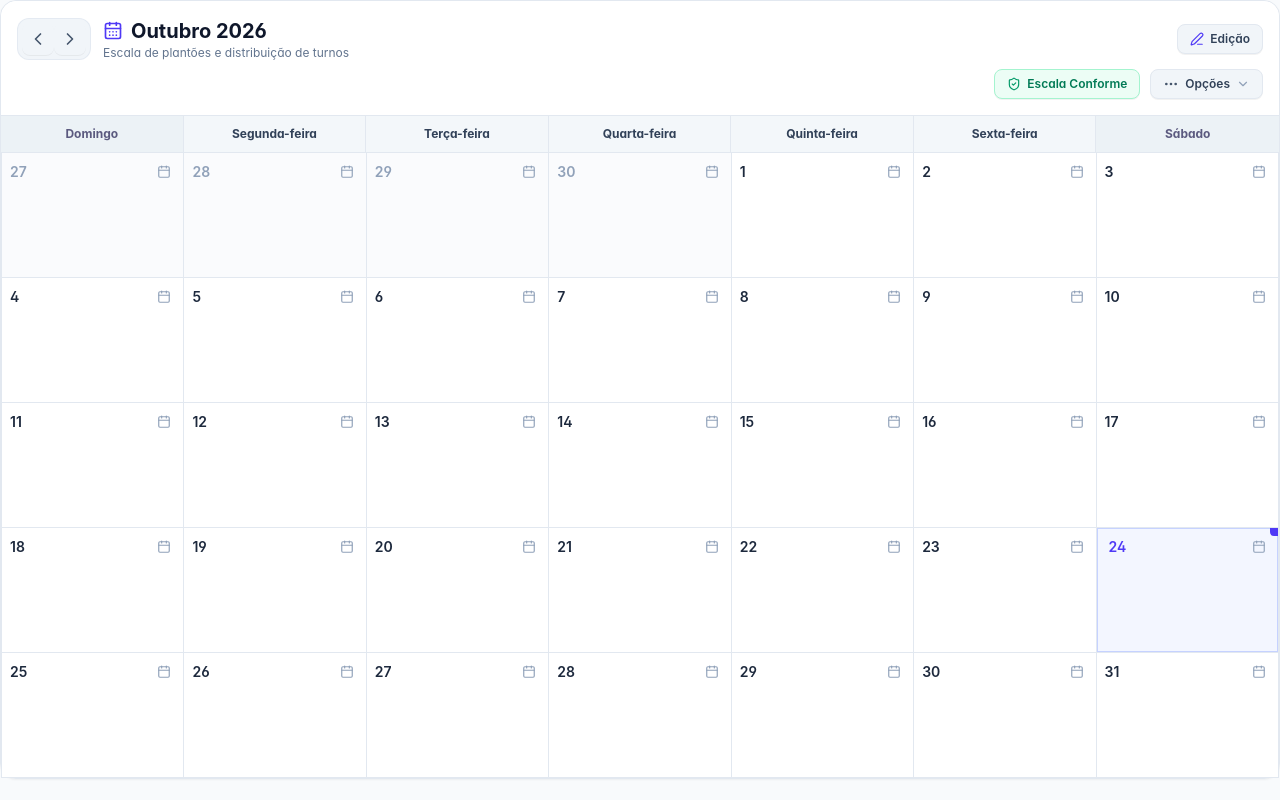
it: CalendarGrid › toggles between view and edit mode with a single button
Click the button "Edição" at x=1220, y=39, box [1177,24,1263,54]
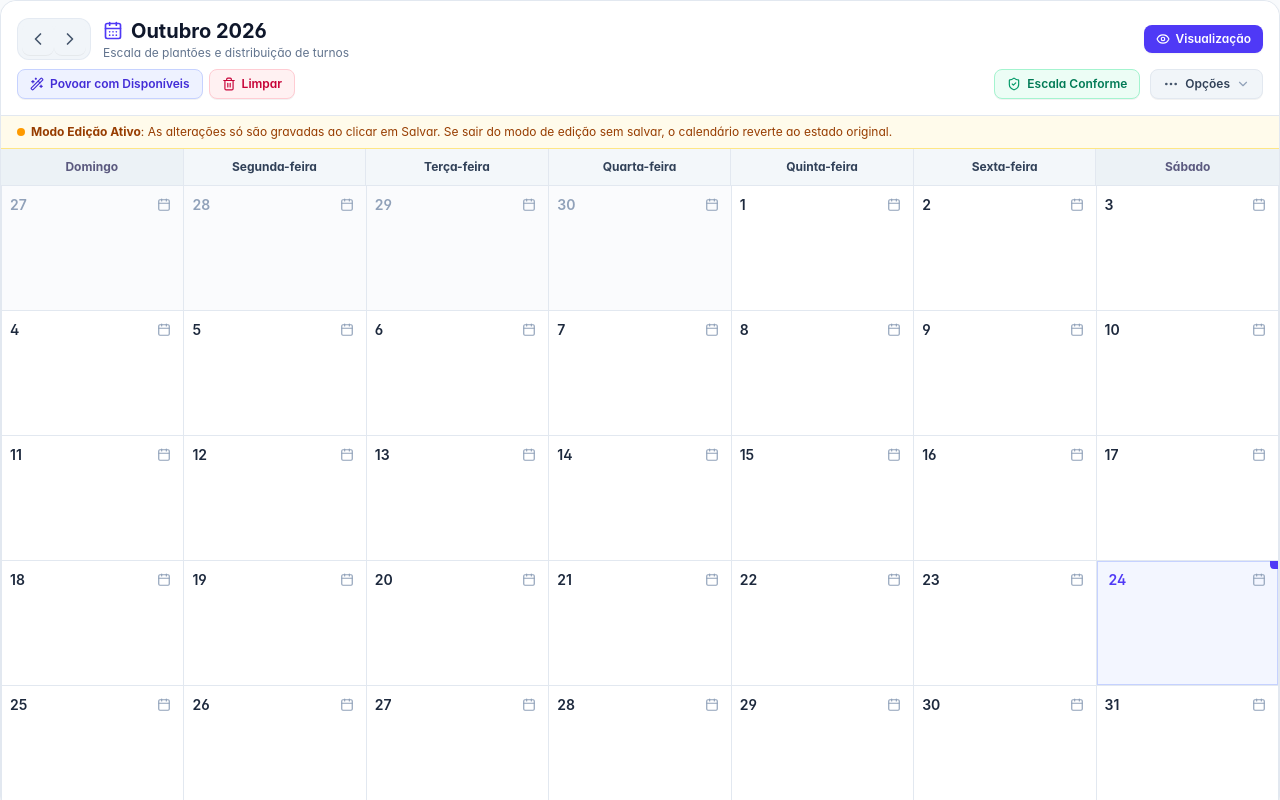
Result: the button "Visualização" is shown
// Clicking it switches back to view mode and button reverts to "Edição"
Click the button "Visualização" at x=1203, y=39, box [1144,25,1263,53]
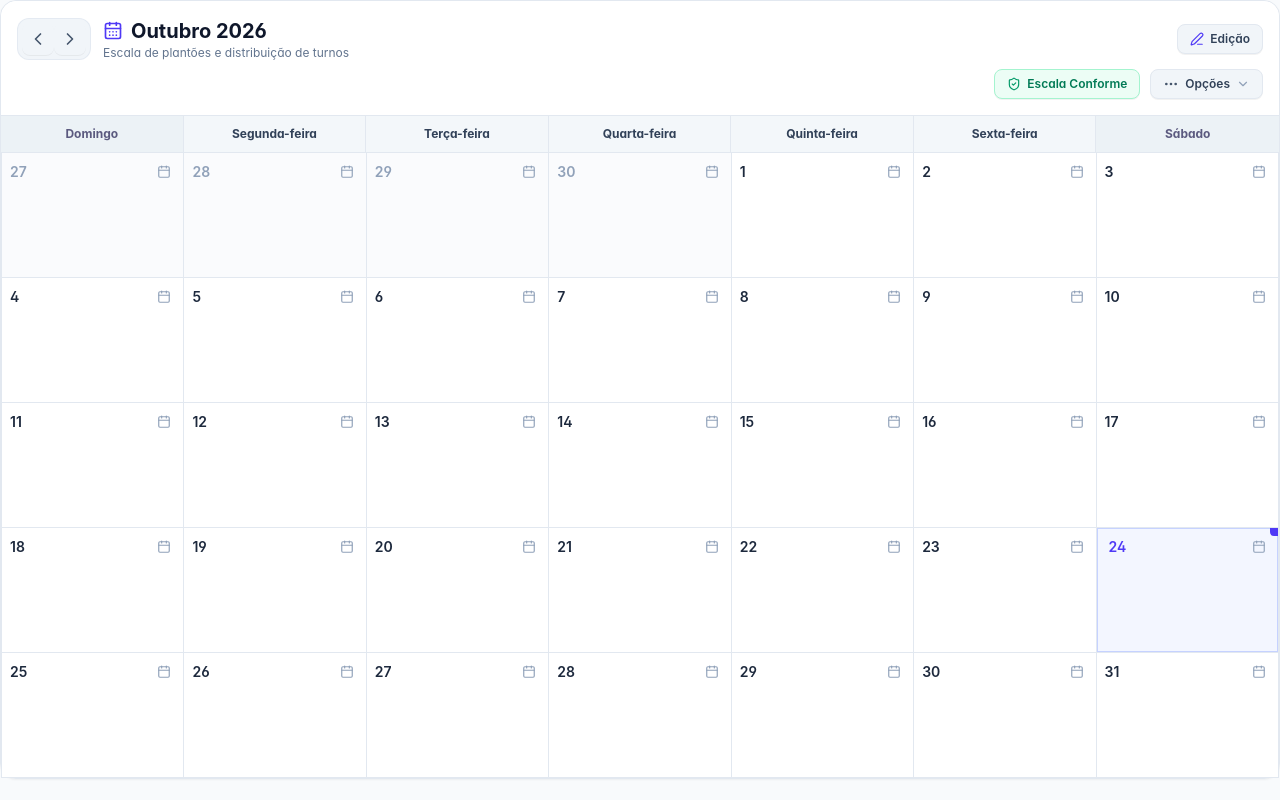
Result: the button "Edição" is shown at [1177,24,1263,54]
